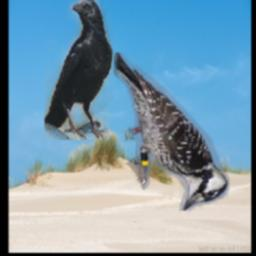Crow: (45, 0, 113, 141)
Woodpecker: (114, 52, 229, 211)
